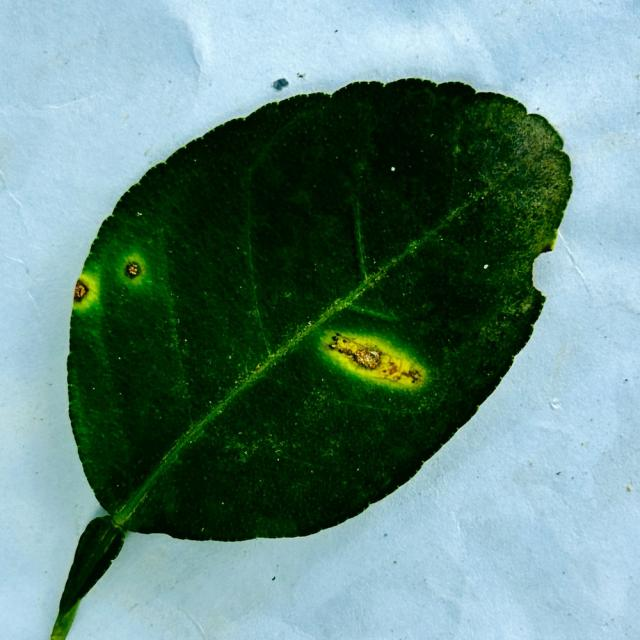Anthracnose: (320, 328, 429, 390), (72, 271, 99, 314), (122, 247, 148, 287)
Lemon: (58, 77, 573, 636)
